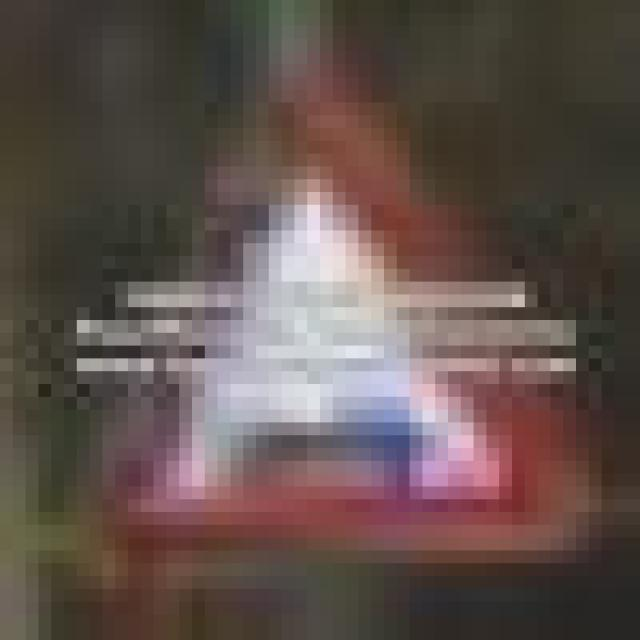horn_prohibited: (38, 38, 628, 550)
